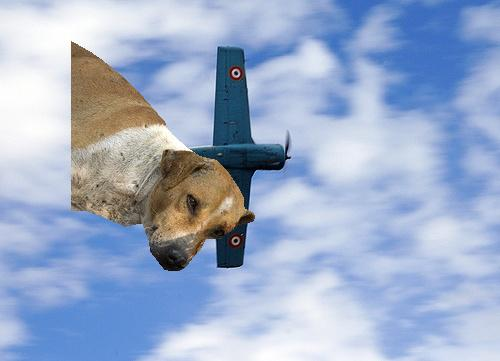tampered: (72, 42, 255, 271)
